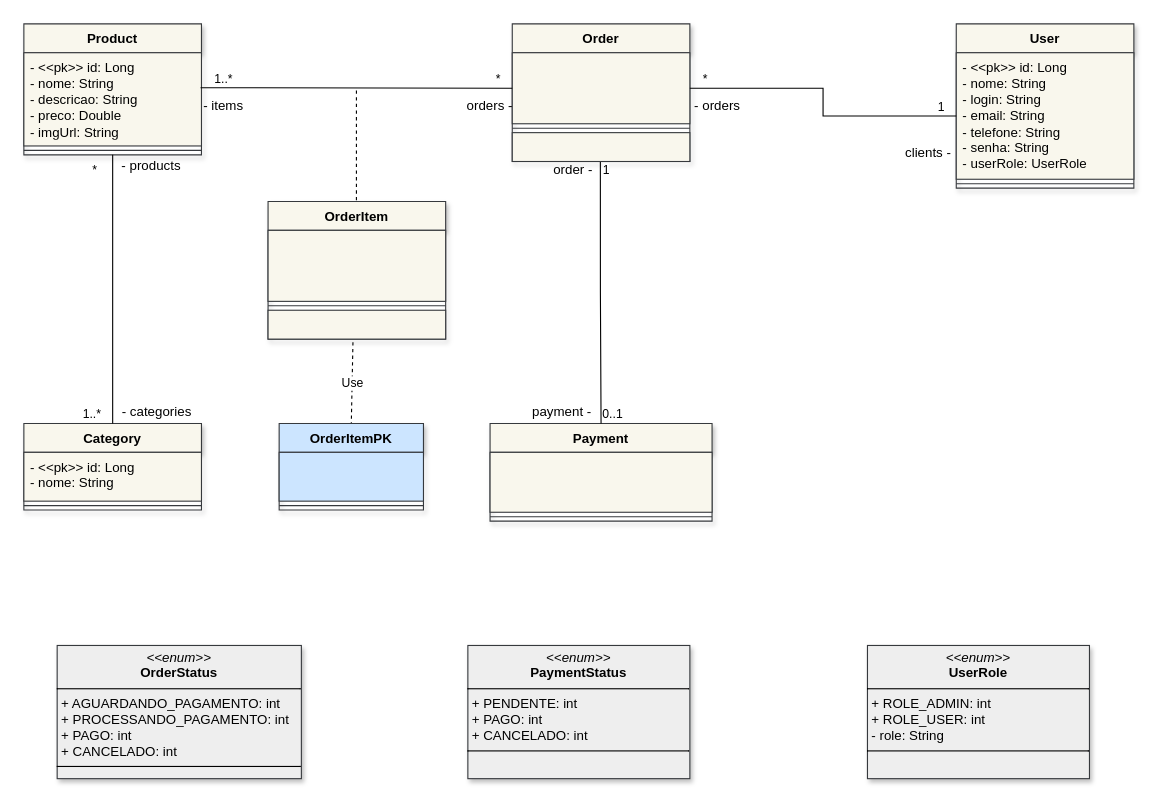
This 1160x806 diagram has some shape labels left out. Here are the shapes that lost their labels. From the top down, the centre of each, then its label:
point 600,88: - <<pk>> id: Long - moment: Instant - orderStatus: OrderStatus - total: Double
point 600,147: + calcularTotal(): Double
point 356,265: - <<pk> id: OrderItemPK - quantidade: Integer - preco: Double - subtotal: Double
point 356,324: + calcularSubtotal(): void
point 350,476: - order: Order - product: Product
point 600,481: - <<pk>> id: Long - moment: Instant - paymentStatus: PaymentStatus
